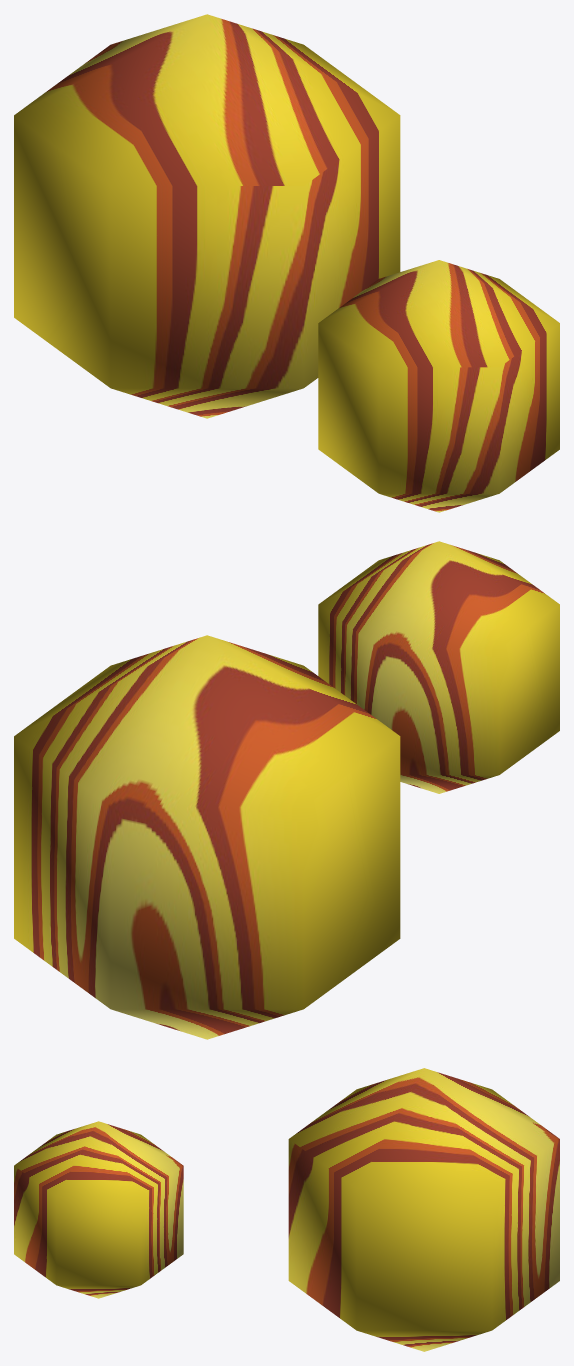
File: sunmarble_selection.DAE
The picture shows the model from 3 angles, top to bottom: view 1: azimuth 30°, elevation 25°; view 2: azimuth 150°, elevation 25°; view 3: azimuth 270°, elevation 25°; orthographic projection. The views are drawn at different scales.
Visible parts, largest first — view 1: Shooter_A, Standard_A; view 2: Shooter_A, Standard_A; view 3: Shooter_A, Standard_A.
Part boxes in pixels (x1,y1,x2,y2): Shooter_A: [14, 14, 400, 418]; Standard_A: [318, 260, 559, 512]; Shooter_A: [14, 635, 400, 1039]; Standard_A: [318, 541, 559, 793]; Shooter_A: [288, 1068, 559, 1351]; Standard_A: [14, 1121, 183, 1298].
Bounding box in the file's own units: 0.0381 × 0.0886 × 0.0508.
1 material, 1 textured.
